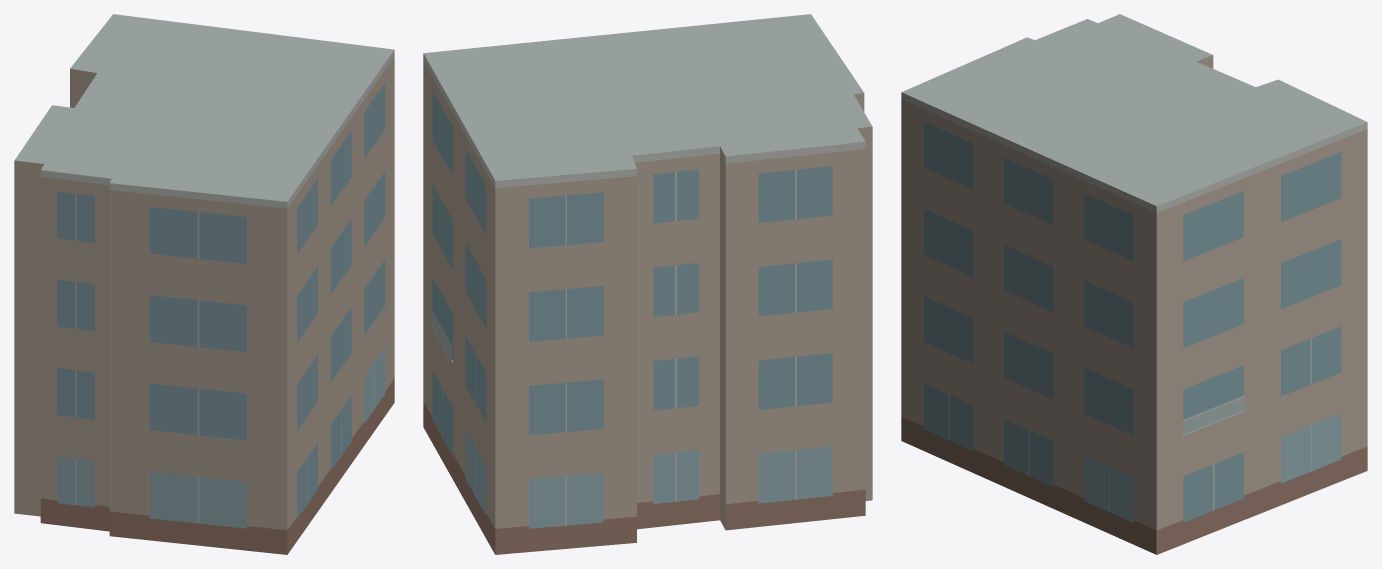
Rendered from survey-upis-32662415.glb.
The picture shows the model from 3 angles, left to right: view 1: azimuth 30°, elevation 25°; view 2: azimuth 150°, elevation 25°; view 3: azimuth 270°, elevation 25°; orthographic projection. The views are drawn at different scales.
Parts seen in each view (by area): view 1: survey-upis-32662415.tmp; view 2: survey-upis-32662415.tmp; view 3: survey-upis-32662415.tmp.
Boxes of the visible parts, x1=… form: survey-upis-32662415.tmp: x1=14, y1=14, x2=394, y2=554; survey-upis-32662415.tmp: x1=423, y1=14, x2=872, y2=554; survey-upis-32662415.tmp: x1=901, y1=14, x2=1367, y2=554.
Size of the model in its own units: 14.85 by 12.55 by 15.22.
